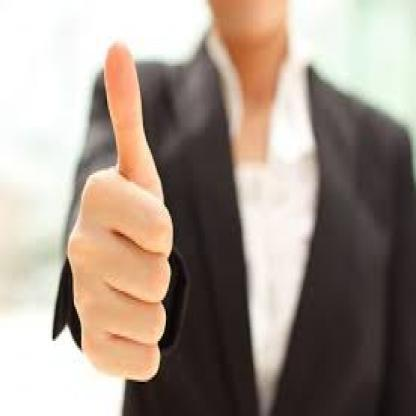thumb_up: (66, 36, 172, 384)
